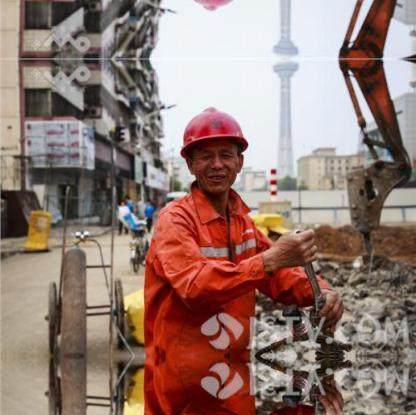helmet: (174, 95, 255, 155)
